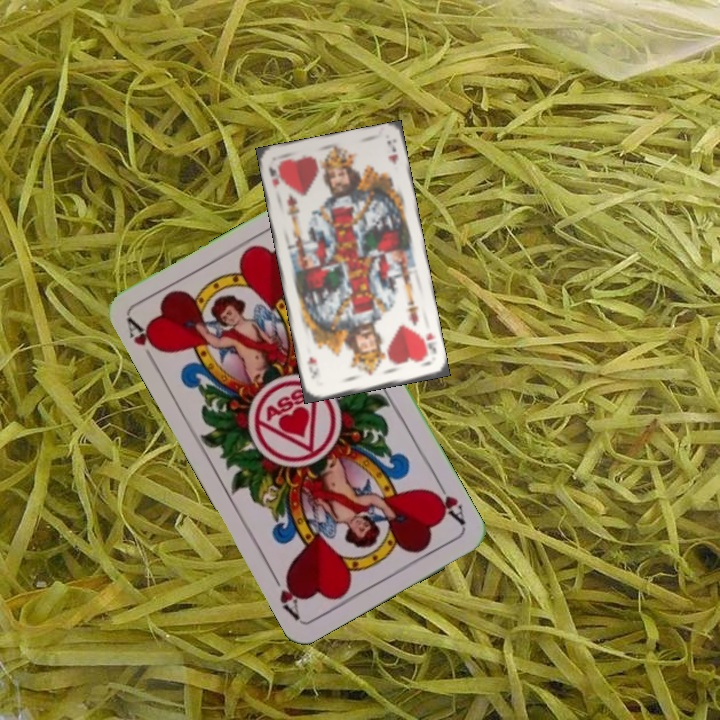HA: (426, 474, 469, 528), (123, 314, 165, 369)
HK: (418, 329, 439, 362), (265, 162, 282, 191)
